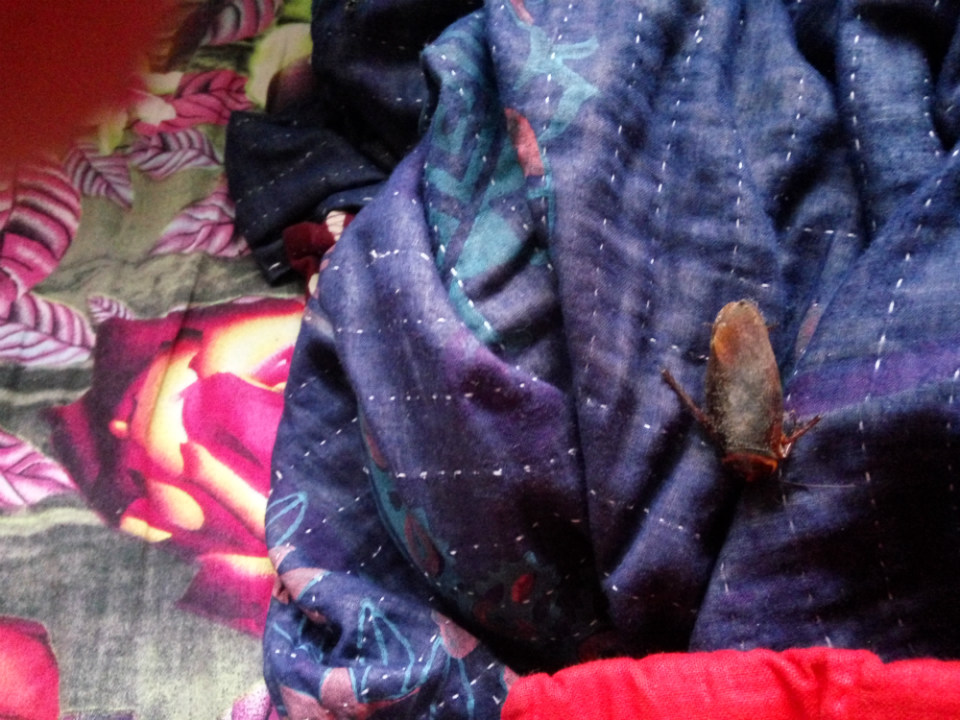cockroach: (582, 260, 873, 518)
